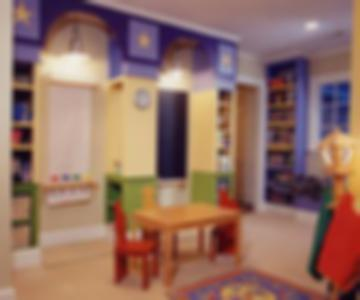Otro Obstaculo: (314, 137, 360, 300)
